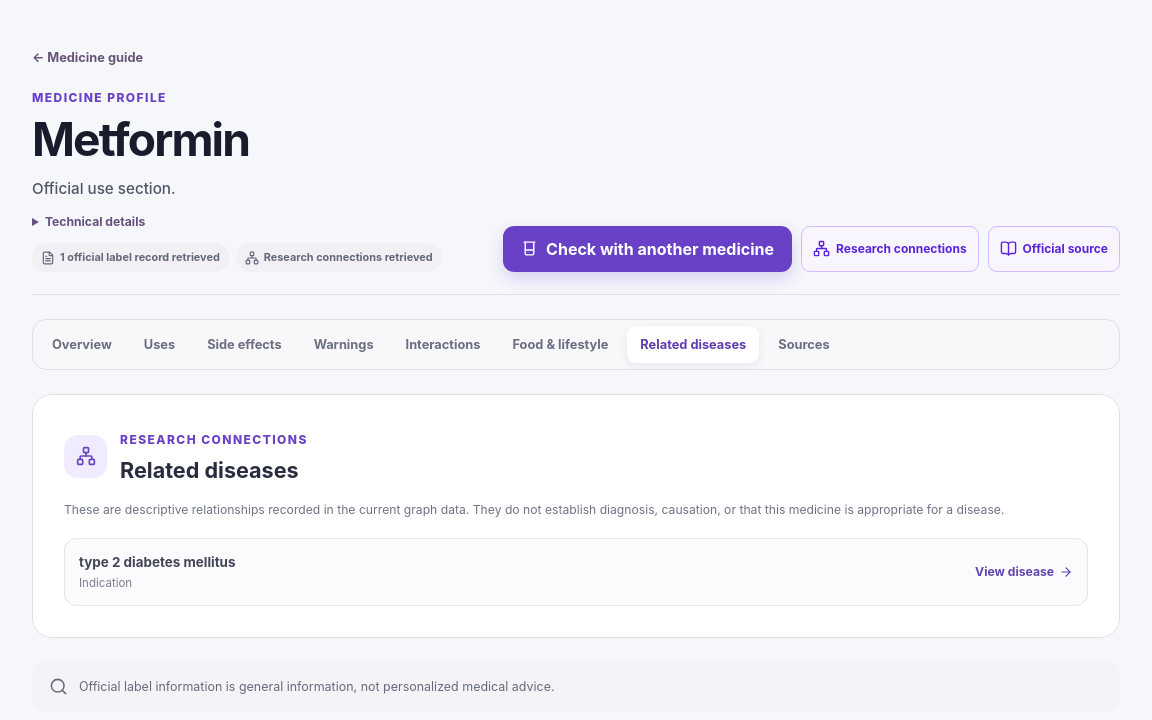
Test case: MedicineGuide › shows related disease relationships and source metadata
Expected: the text "type 2 diabetes mellitus" is shown, [79,552,236,572]
Expected: the text "indication" is shown, [79,576,132,590]
Step 1. Click the link "Sources" → (804, 344), box [778,337,830,352]
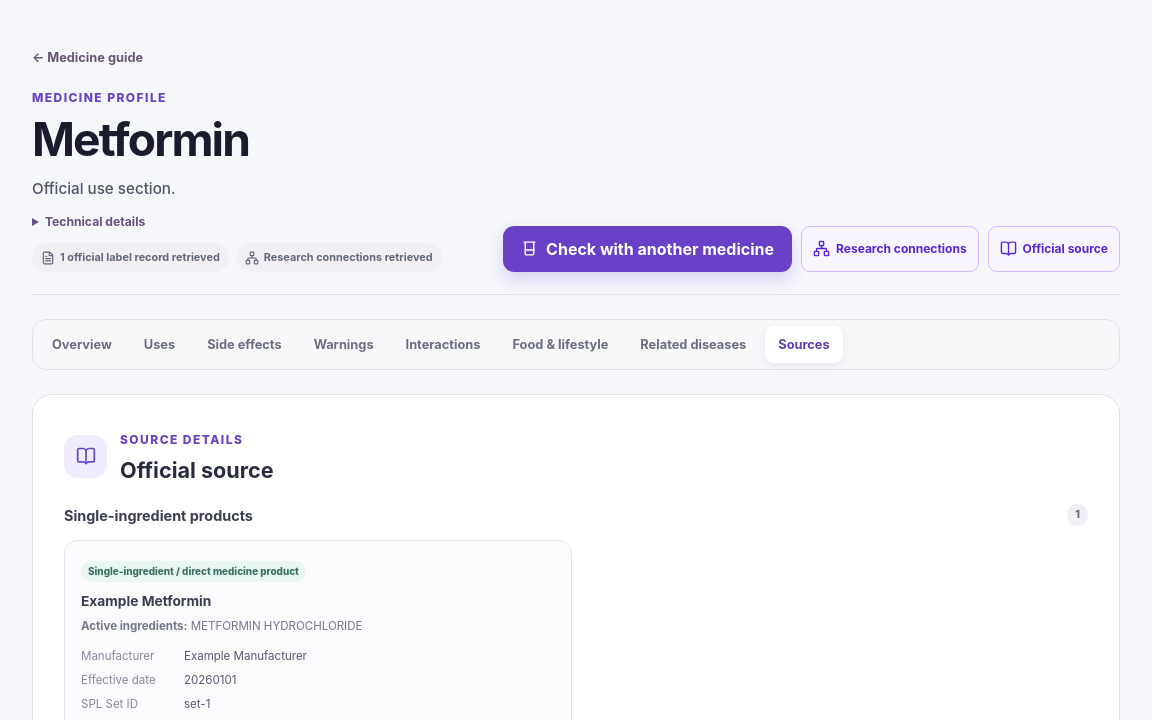
Expected: the text "Example Metformin" is shown, [81,593,211,609]
Expected: the text "set-1" is shown, [184,697,210,711]
